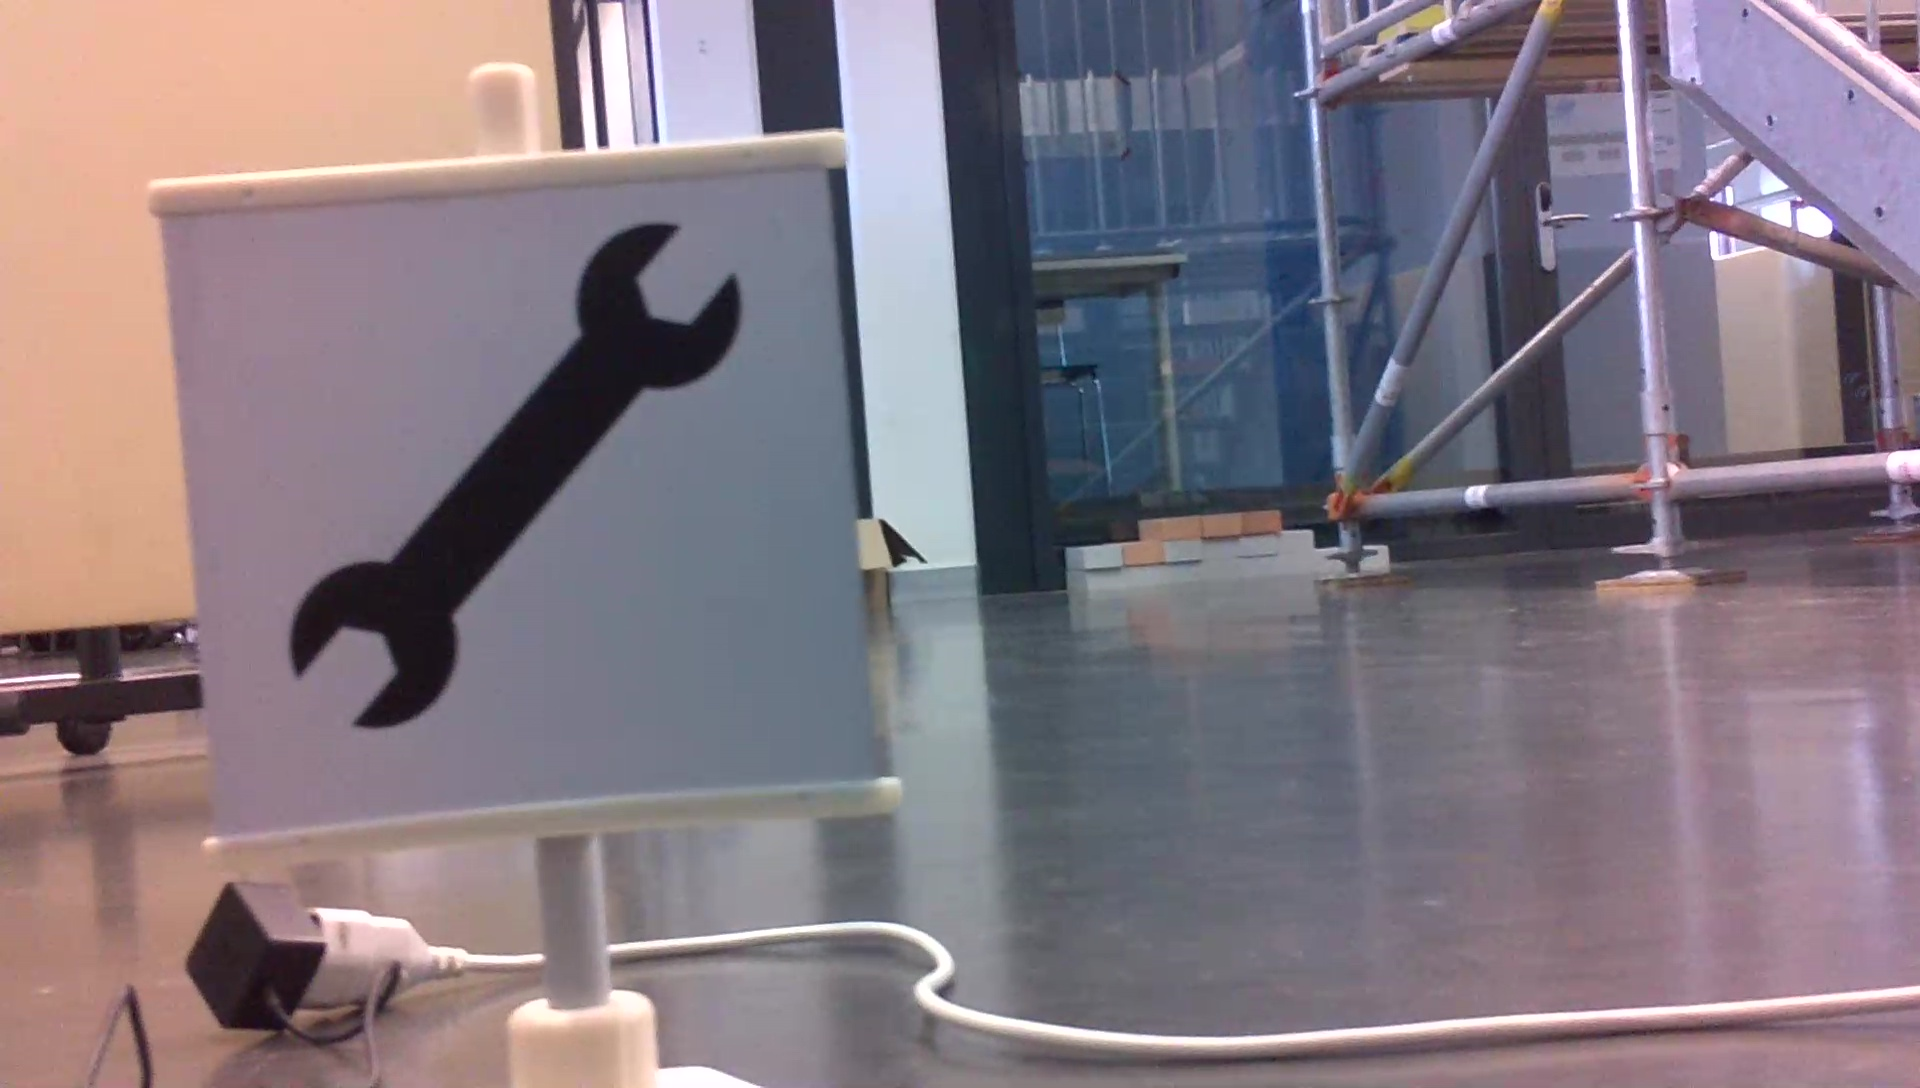wrench: (272, 208, 748, 736)
